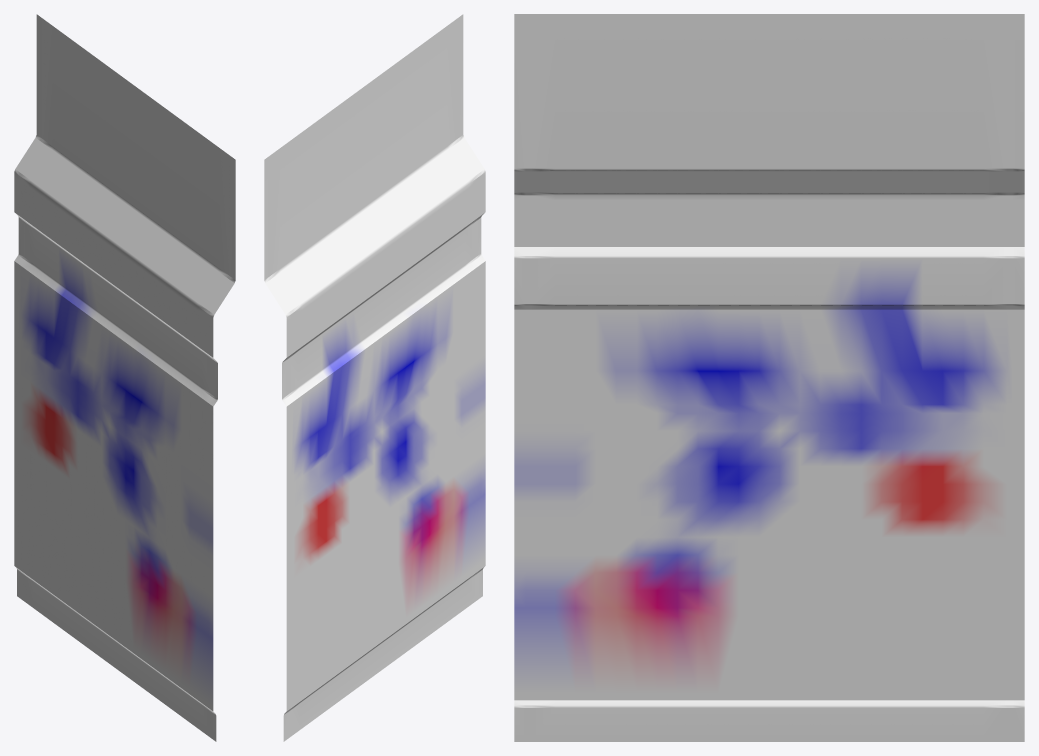
The picture shows the model from 3 angles, left to right: view 1: azimuth 30°, elevation 25°; view 2: azimuth 150°, elevation 25°; view 3: azimuth 270°, elevation 25°; orthographic projection. The views are drawn at different scales.
Visible parts, largest first — view 1: SM_Platform_Wall_Large_04_LOD0; view 2: SM_Platform_Wall_Large_04_LOD0; view 3: SM_Platform_Wall_Large_04_LOD0.
Part boxes in pixels (<box>): SM_Platform_Wall_Large_04_LOD0: <box>14,14,235,741</box>; SM_Platform_Wall_Large_04_LOD0: <box>264,14,485,741</box>; SM_Platform_Wall_Large_04_LOD0: <box>514,14,1024,741</box>.
Bounding box in the file's own units: 32.32 × 500 × 800.
